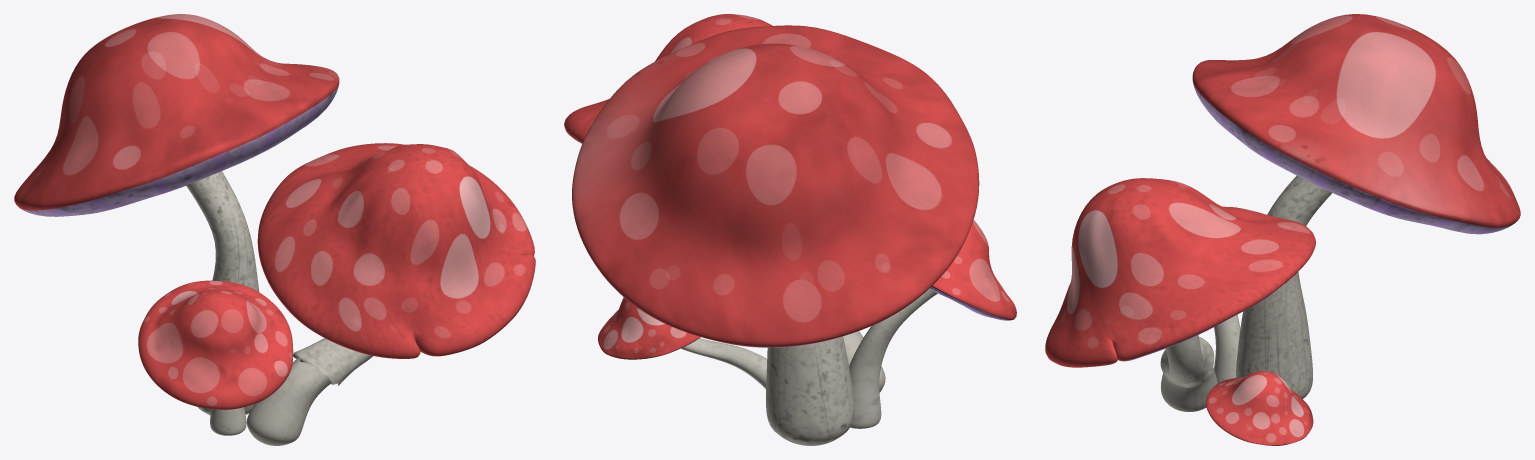
File: Katana.fbx
The picture shows the model from 3 angles, left to right: view 1: azimuth 30°, elevation 25°; view 2: azimuth 150°, elevation 25°; view 3: azimuth 270°, elevation 25°; orthographic projection. The views are drawn at different scales.
Visible parts, largest first — view 1: Mushroom_1, Mushroom, Mushroom_2; view 2: Mushroom, Mushroom_2, Mushroom_3, Mushroom_1; view 3: Mushroom, Mushroom_1, Mushroom_3, Mushroom_2.
Part boxes in pixels (box(x1,y1,x2,y2)): Mushroom_1: box(246, 143, 535, 445); Mushroom: box(14, 14, 339, 415); Mushroom_2: box(138, 280, 293, 435); Mushroom: box(572, 25, 979, 445); Mushroom_2: box(849, 220, 1016, 428); Mushroom_3: box(598, 297, 767, 388); Mushroom_1: box(564, 14, 885, 392); Mushroom: box(1192, 14, 1520, 398); Mushroom_1: box(1045, 178, 1315, 411); Mushroom_3: box(1206, 371, 1313, 445); Mushroom_2: box(1214, 314, 1240, 383).
Size of the model in its own units: 1657 by 1434 by 1655.
